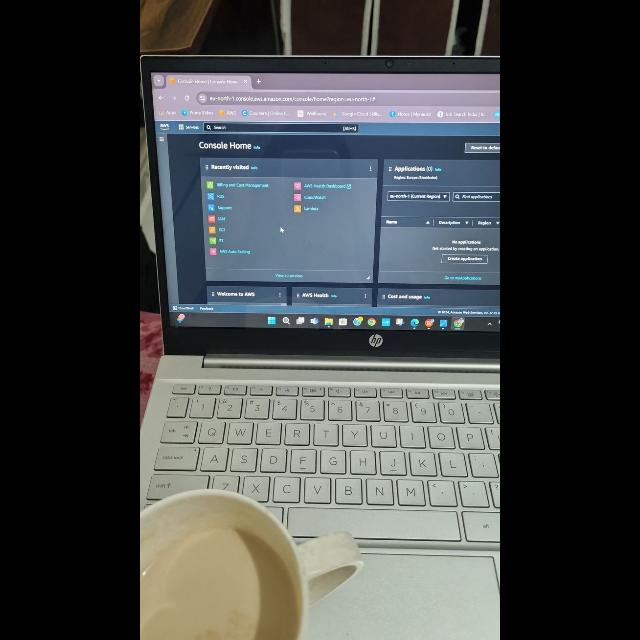laptop: (140, 55, 500, 640)
